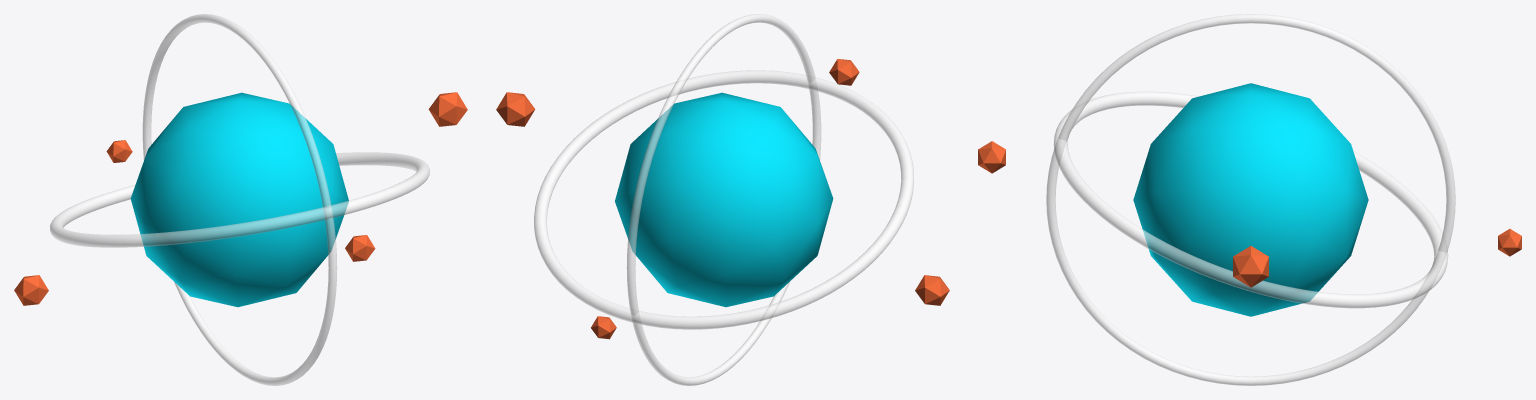
3 views of the same model, side by side, from view 1: azimuth 30°, elevation 25°; view 2: azimuth 150°, elevation 25°; view 3: azimuth 270°, elevation 25° (orthographic). The views are drawn at different scales.
Size of the model in its own units: 4.69 by 3.48 by 4.62.
